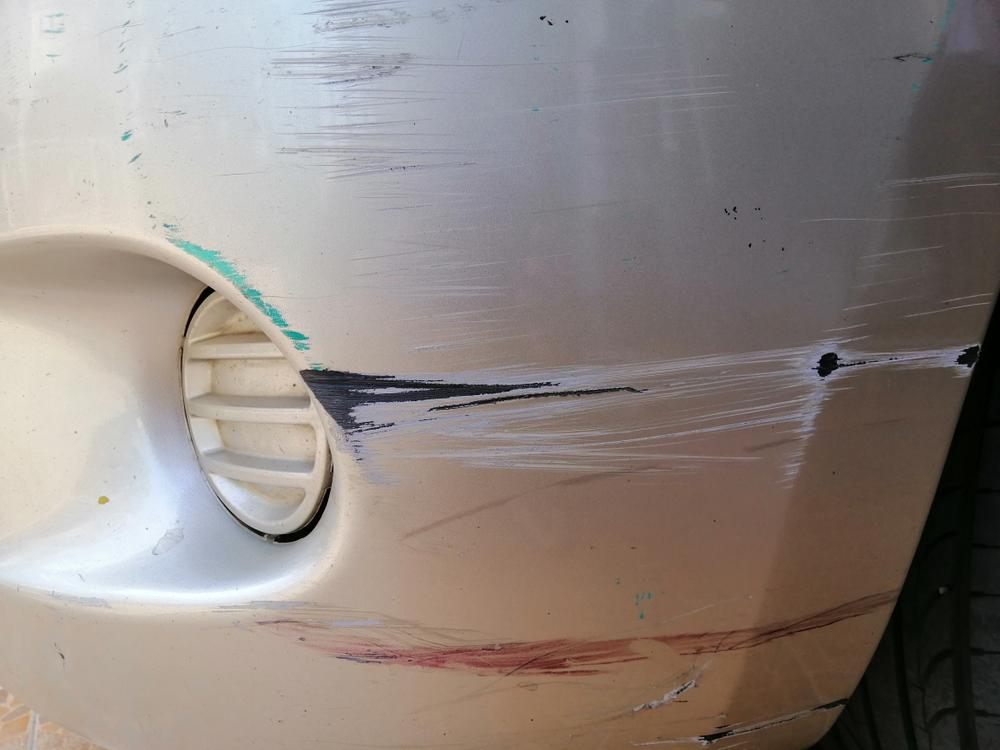scratch: (116, 0, 1000, 491), (211, 579, 904, 750)
